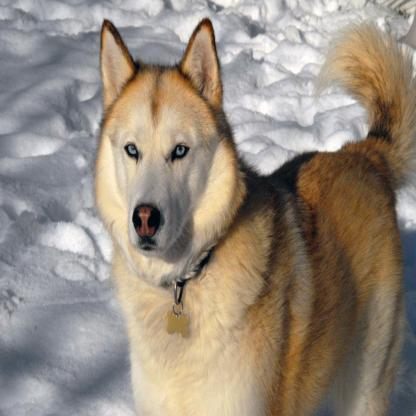dog: (93, 18, 416, 416)
